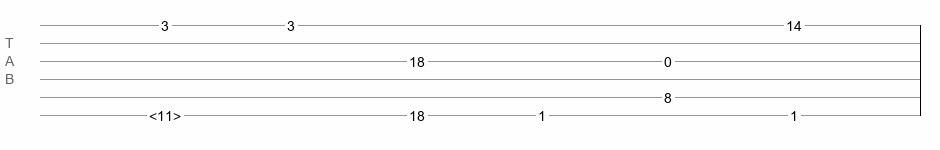0: (664, 54, 672, 64)
1: (538, 108, 546, 118), (790, 108, 798, 118)
14: (786, 18, 802, 28)
18: (409, 108, 425, 118), (409, 54, 425, 64)
3: (161, 18, 169, 28), (287, 18, 295, 28)
8: (664, 90, 672, 100)
harmonic: (149, 108, 181, 118)
